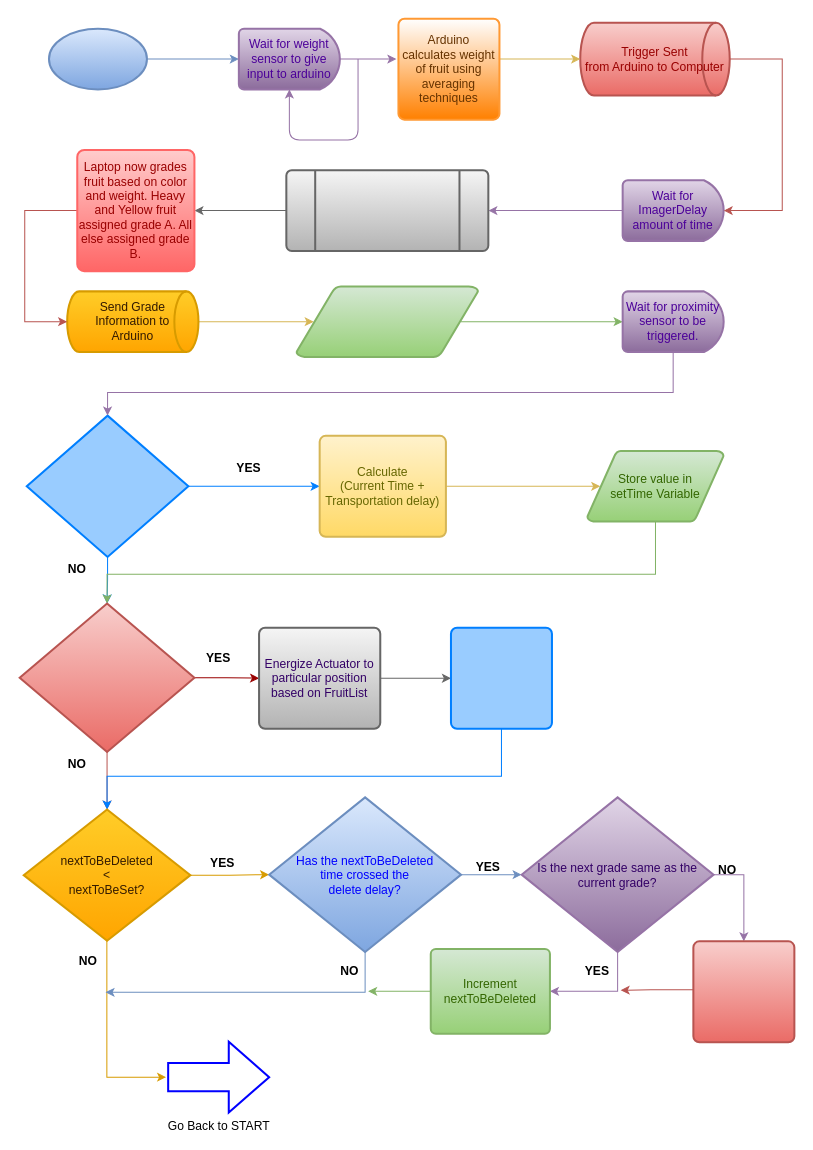
The diagram is 813 pixels wide and 1150 high, and some of its shapes have lost their labels. The shapes that lost their labels are listed below. From the top down, each one's centre as x and y in pixels, then its label:
point 97,58: START
point 387,210: Take Image via webcam. Process it to extract hue information.
point 387,321: Store Incoming grade in FruitList Variable
point 107,486: Proximity Sensor Triggered?
point 106,677: nextToBeSet time within mechanism Delay limit?
point 500,677: Increment nextToBeSet
point 743,991: Set the actuator to mid-position
